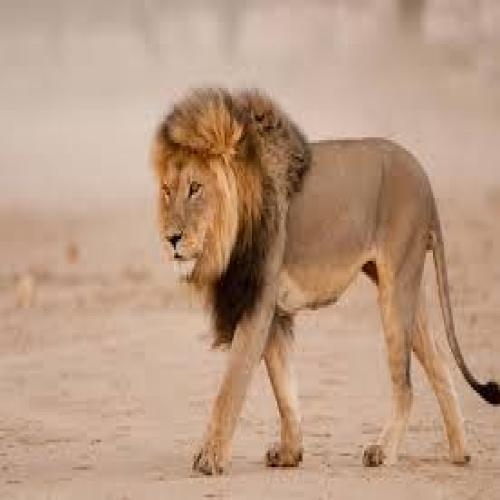lion-endangered: (145, 86, 500, 480)
